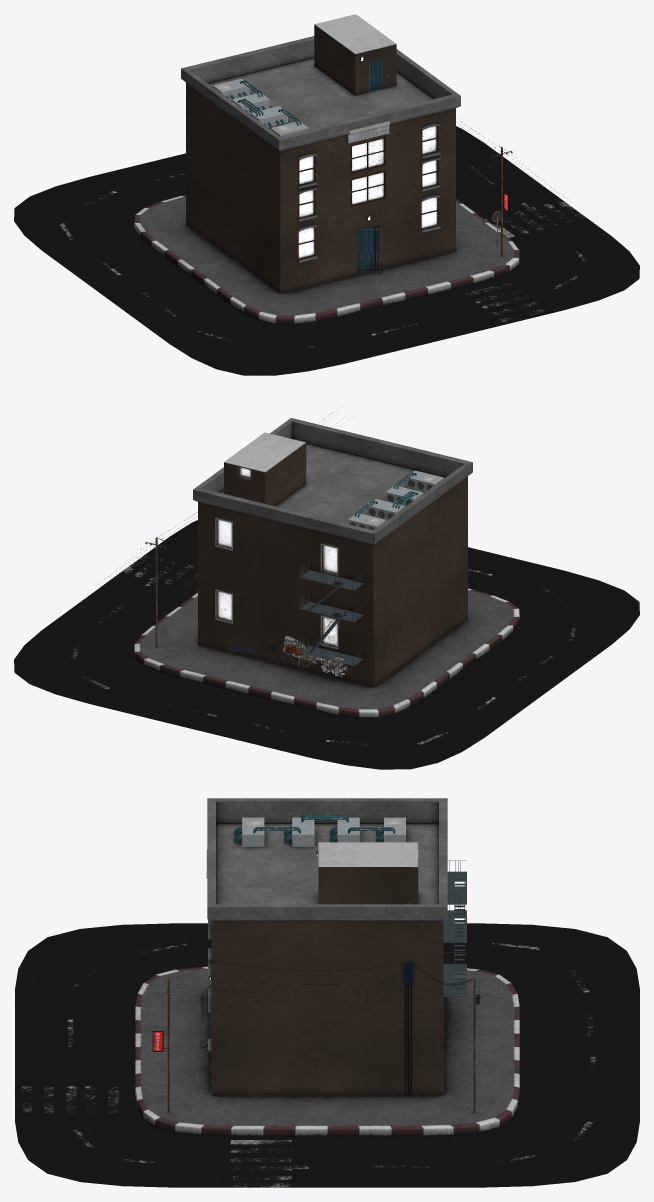
3 renders of one model, top to bottom at view 1: azimuth 30°, elevation 25°; view 2: azimuth 150°, elevation 25°; view 3: azimuth 270°, elevation 25°, orthographic. The views are drawn at different scales.
Parts seen in each view (by area): view 1: Street, Building, AC; view 2: Street, Building, Stairs, AC; view 3: Street, Building, AC, Stairs, LightPole.
Boxes of the visible parts, x1,y1,x2,y2 form: Street: (14,126,639,375); Building: (181,14,460,293); AC: (213,78,308,136); Street: (14,520,639,769); Building: (193,418,472,687); Stairs: (300,561,363,666); AC: (348,470,443,530); Street: (15,923,639,1187); Building: (201,798,447,1095); AC: (234,814,405,846); Stairs: (443,860,466,996); LightPole: (15,961,602,1112).
Bounding box in the file's own units: 2 × 0.803 × 2.
6 materials, 6 textured.
